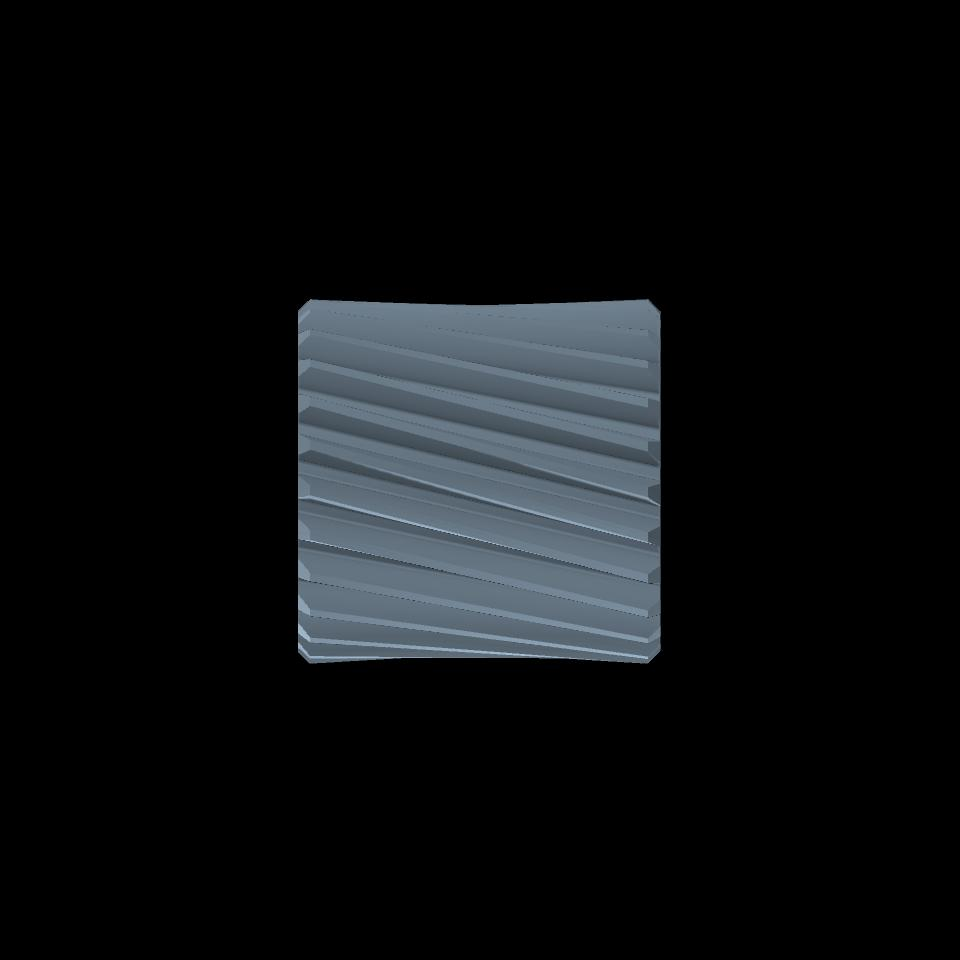Helical: (310, 300, 651, 664)
